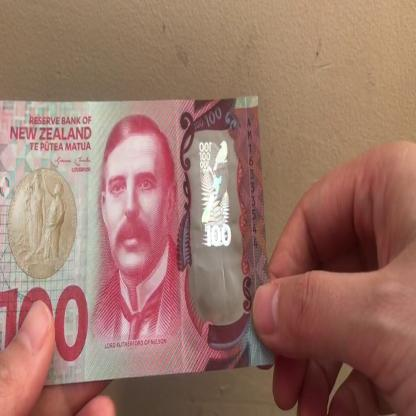100F: (194, 135, 236, 302)
